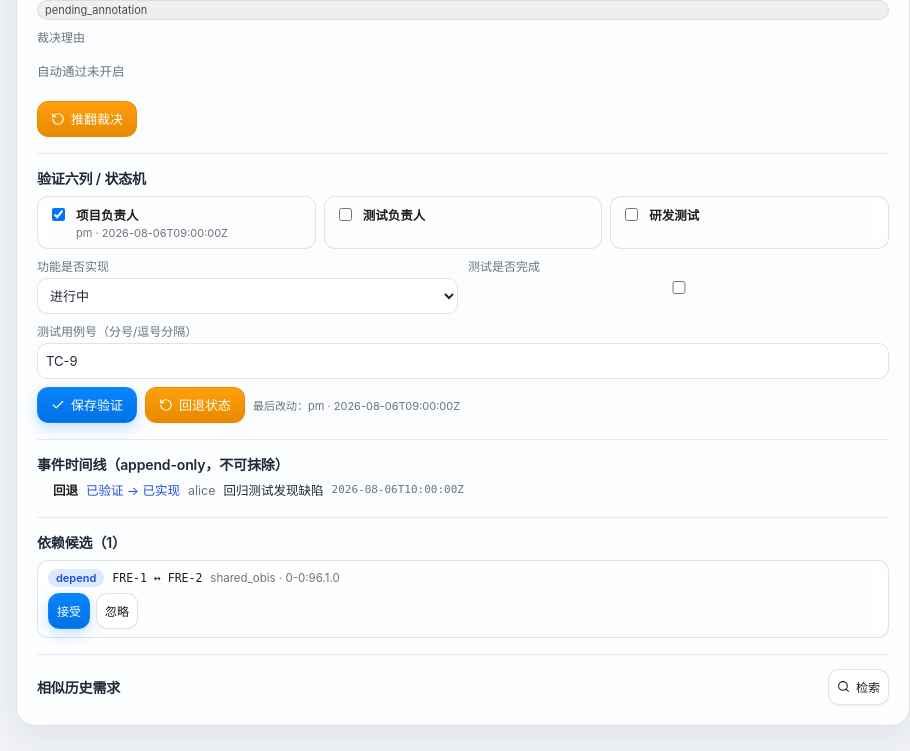
Test case: FunctionalReview (WS-F) › keeps showing legacy library entries that have no lifecycle_state (backward compatible, S1-10d)
(page scrolled)
Click the button with test id "run-library-search" at (858, 687), box [828,669,889,705]
(page scrolled)
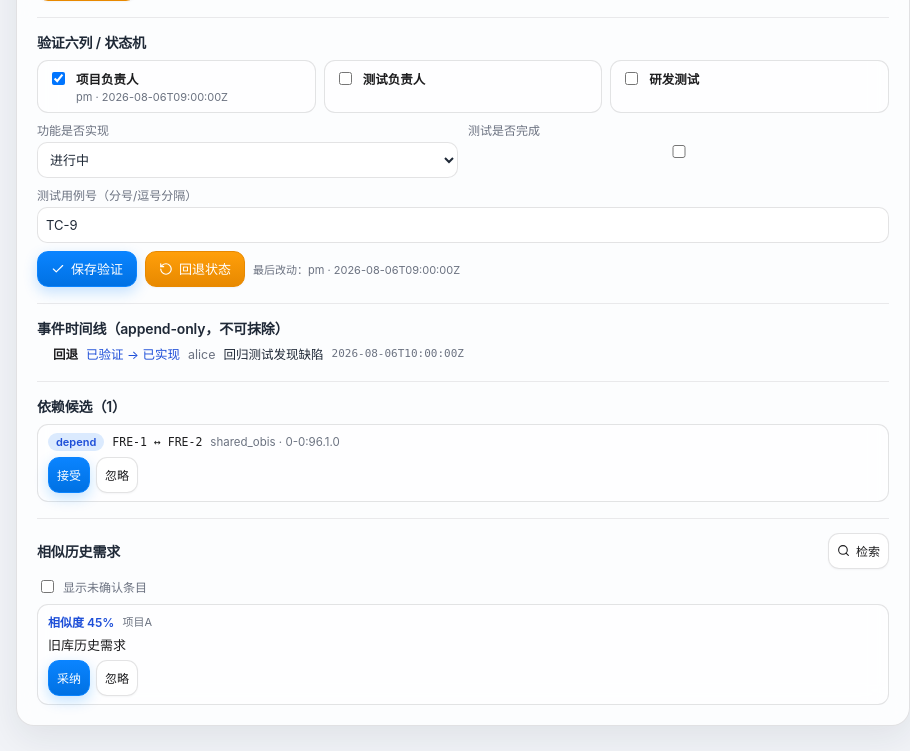
Now the element with test id "library-panel" shows "旧库历史需求", box [48,637,126,653]
